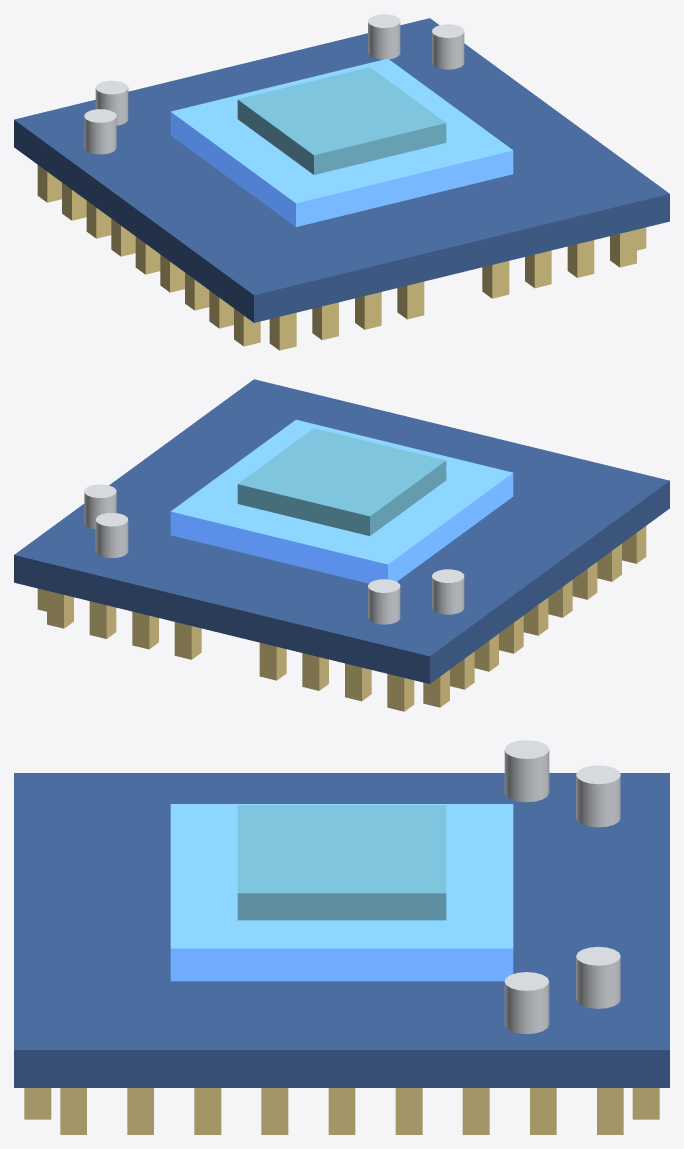
Rendered from cpu-chip.gltf.
The picture shows the model from 3 angles, top to bottom: view 1: azimuth 30°, elevation 25°; view 2: azimuth 150°, elevation 25°; view 3: azimuth 270°, elevation 25°; orthographic projection. The views are drawn at different scales.
Parts seen in each view (by area): view 1: Substrate, Die, HeatSpreader, Pins, Capacitors; view 2: Substrate, Die, HeatSpreader, Pins, Capacitors; view 3: Substrate, Die, HeatSpreader, Pins, Capacitors.
Boxes of the visible parts, x1=… form: Substrate: x1=14, y1=18, x2=669, y2=322; Die: x1=170, y1=58, x2=513, y2=226; HeatSpreader: x1=237, y1=67, x2=446, y2=174; Pins: x1=37, y1=165, x2=646, y2=350; Capacitors: x1=84, y1=14, x2=464, y2=154; Substrate: x1=14, y1=379, x2=669, y2=683; Die: x1=170, y1=419, x2=513, y2=583; HeatSpreader: x1=237, y1=428, x2=446, y2=535; Pins: x1=37, y1=526, x2=646, y2=711; Capacitors: x1=84, y1=484, x2=464, y2=624; Substrate: x1=14, y1=773, x2=669, y2=1087; Die: x1=170, y1=804, x2=513, y2=981; HeatSpreader: x1=237, y1=805, x2=446, y2=920; Pins: x1=24, y1=1088, x2=659, y2=1134; Capacitors: x1=504, y1=740, x2=620, y2=1033.
Size of the model in its own units: 2.2 by 0.56 by 2.2.
